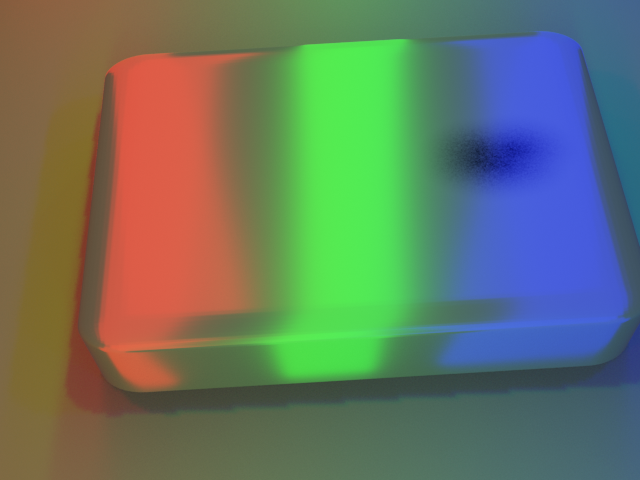stain: (403, 74, 631, 210)
